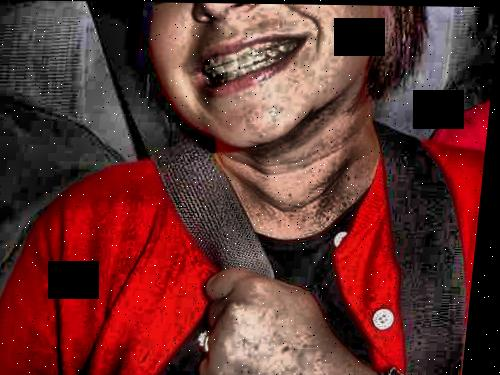seatbelt: (62, 10, 301, 323)
